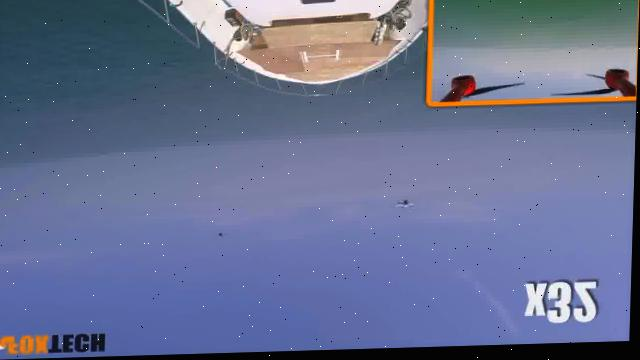drone: (393, 197, 419, 218), (208, 227, 237, 244)
